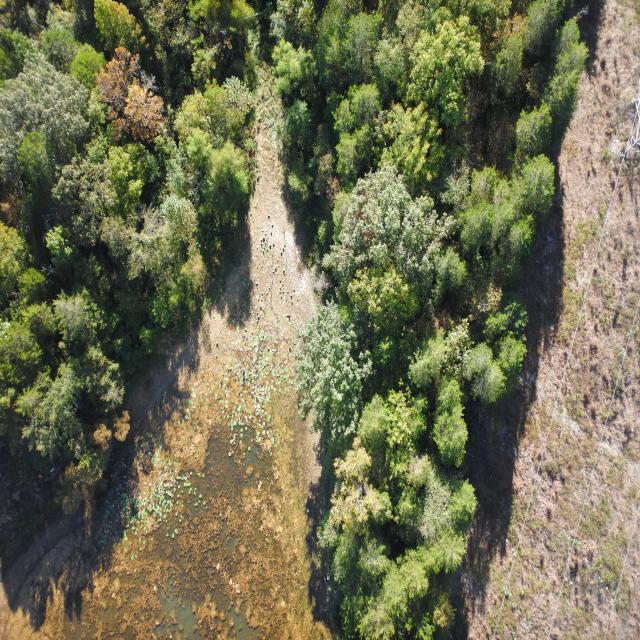Area of Interest: (1, 4, 598, 638)
